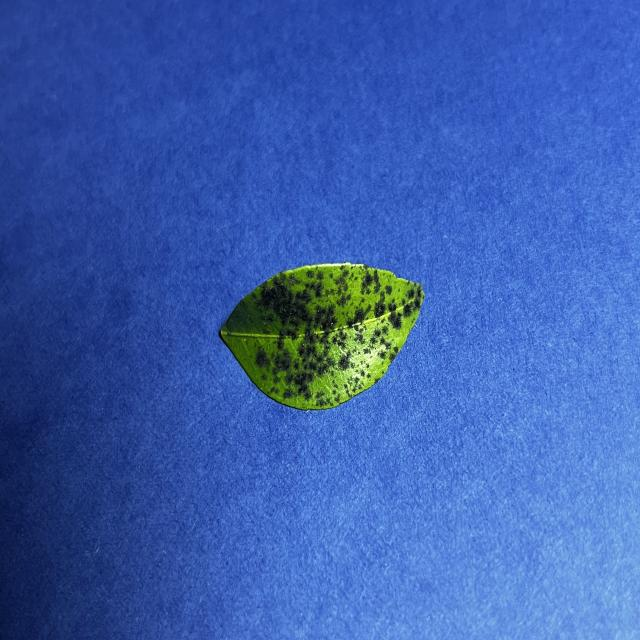sooty_mold: (221, 263, 424, 410)
